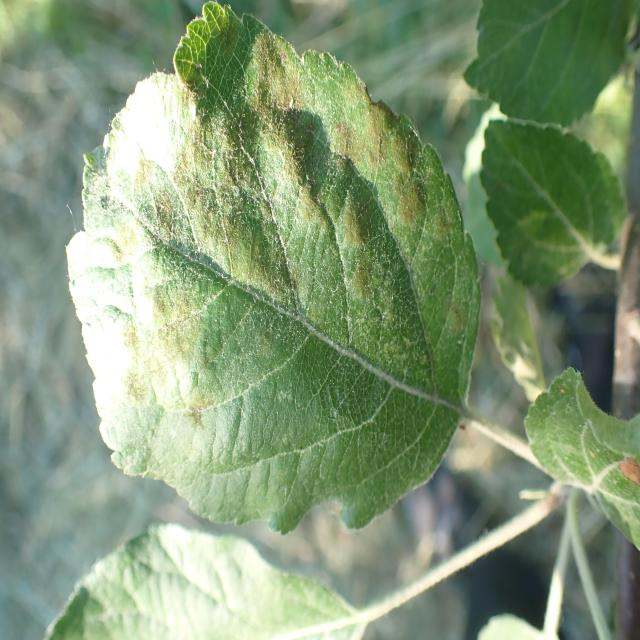scab: (38, 7, 487, 449)
